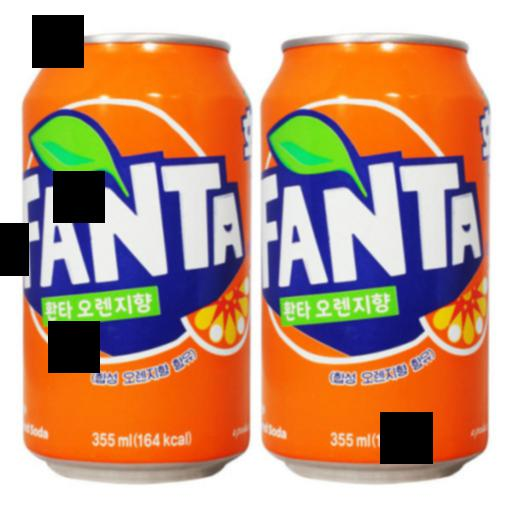fanta_orange: (19, 27, 252, 491), (261, 29, 491, 492)
